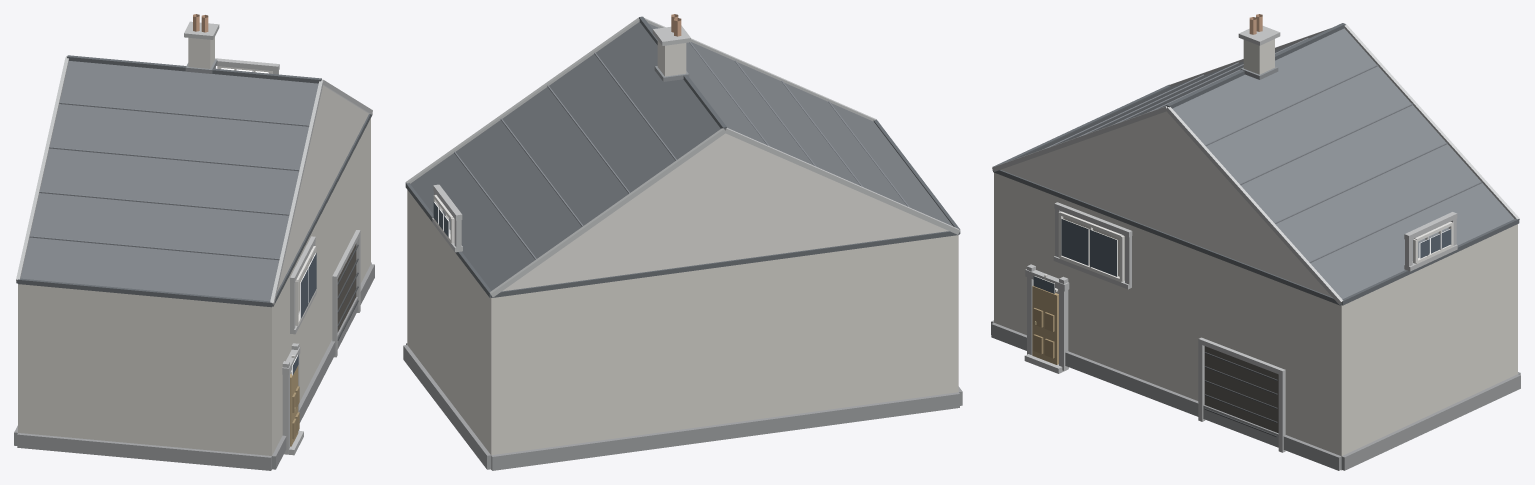
3 views of the same model, side by side, from view 1: azimuth 30°, elevation 25°; view 2: azimuth 150°, elevation 25°; view 3: azimuth 270°, elevation 25° (orthographic). The views are drawn at different scales.
Parts seen in each view (by area): view 1: slate, harl_grey, stone_band, plinth, harl, slate_dk, slate_lt, pend_dark, chim_render, frame, pipe, door_wood; view 2: harl_grey, slate, harl, plinth, stone_band, slate_dk, slate_lt, chim_render; view 3: harl_grey, slate, harl, stone_band, plinth, slate_dk, pend_dark, slate_lt, frame, door_wood, window_glass_002, window_glass_001 (+3 smaller).
Part boxes in pixels (bbox=[...]): slate: bbox=[20, 61, 318, 301]; harl_grey: bbox=[18, 118, 370, 455]; stone_band: bbox=[16, 21, 372, 455]; plinth: bbox=[14, 262, 374, 470]; harl: bbox=[277, 85, 368, 291]; slate_dk: bbox=[16, 55, 372, 307]; slate_lt: bbox=[29, 102, 309, 260]; pend_dark: bbox=[337, 243, 356, 332]; chim_render: bbox=[188, 37, 214, 68]; frame: bbox=[217, 66, 316, 373]; pipe: bbox=[337, 244, 358, 340]; door_wood: bbox=[290, 365, 298, 446]; harl_grey: bbox=[407, 190, 958, 469]; slate: bbox=[410, 22, 952, 290]; harl: bbox=[502, 133, 948, 291]; plinth: bbox=[403, 343, 962, 470]; stone_band: bbox=[405, 17, 960, 297]; slate_dk: bbox=[405, 16, 960, 297]; slate_lt: bbox=[454, 42, 909, 259]; chim_render: bbox=[657, 40, 686, 76]; harl_grey: bbox=[994, 172, 1517, 470]; slate: bbox=[1020, 28, 1514, 299]; harl: bbox=[1001, 111, 1331, 296]; stone_band: bbox=[992, 24, 1519, 452]; plinth: bbox=[991, 320, 1520, 470]; slate_dk: bbox=[992, 23, 1519, 305]; pend_dark: bbox=[1204, 346, 1278, 433]; slate_lt: bbox=[1044, 38, 1482, 262]; frame: bbox=[1044, 211, 1453, 291]; door_wood: bbox=[1032, 285, 1058, 364]; window_glass_002: bbox=[1061, 218, 1089, 265]; window_glass_001: bbox=[1090, 229, 1117, 276].
Bounding box in the file's own units: 13.99 × 10.58 × 14.35.
